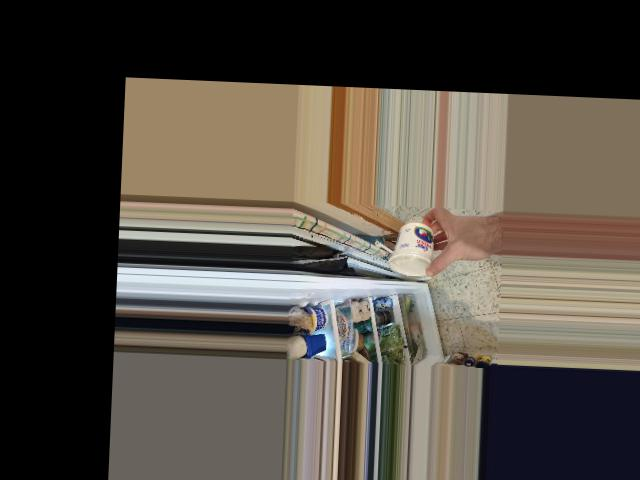cotage: (388, 223, 439, 276)
